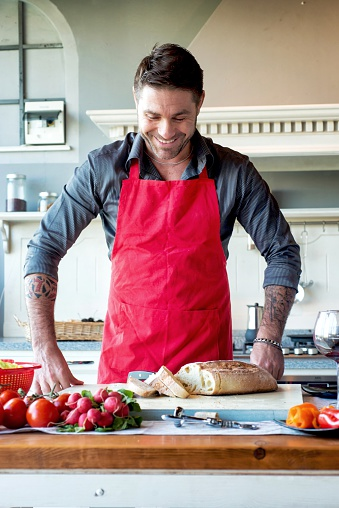em pe: (12, 58, 314, 411)
